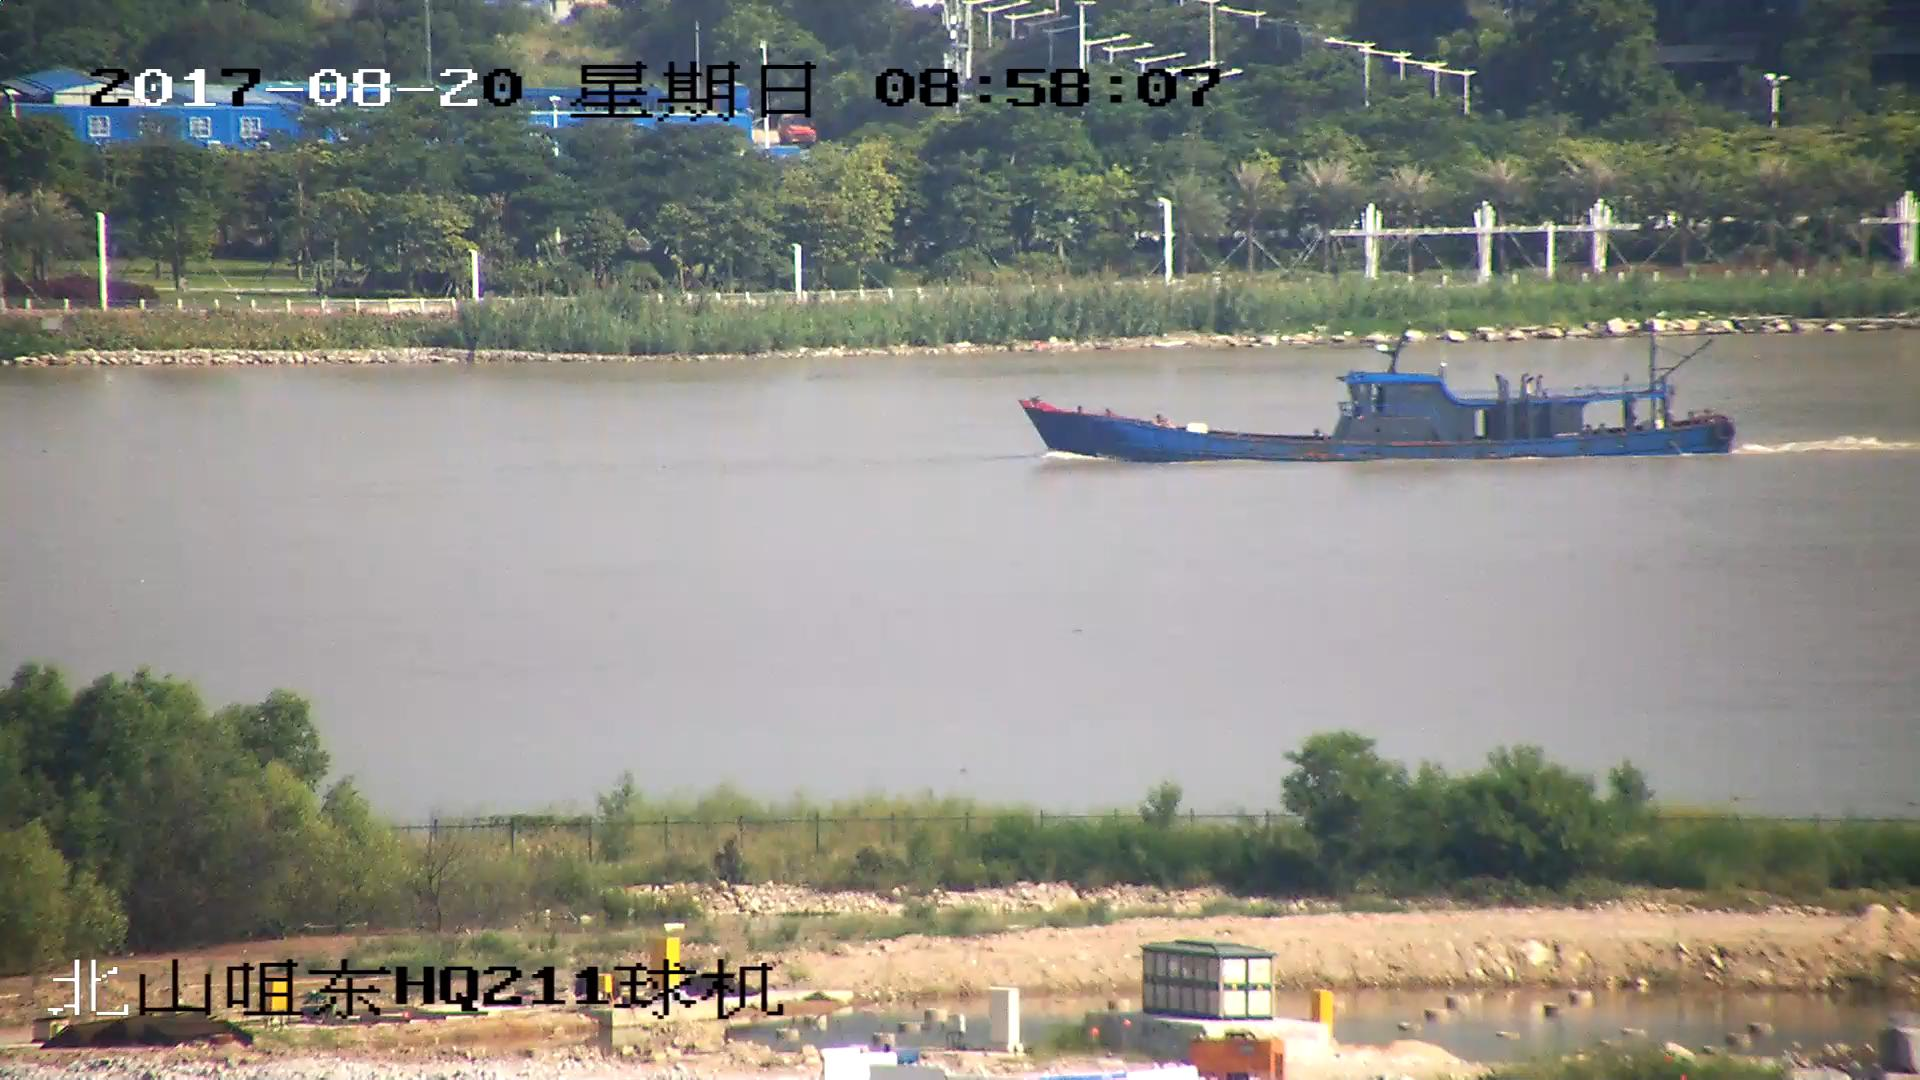fishing boat: (1022, 329, 1742, 462)
